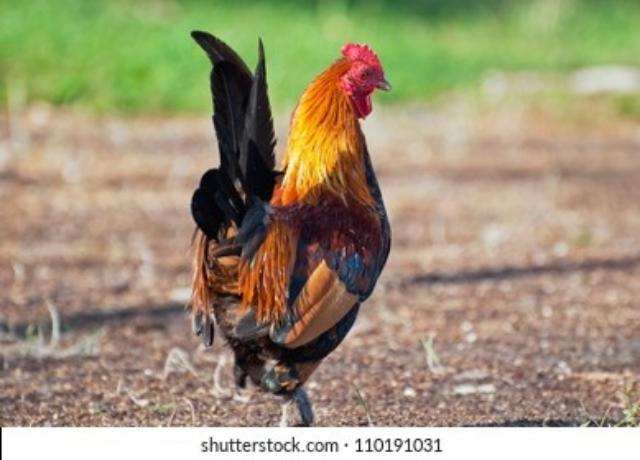Chicken: (189, 30, 393, 430)
